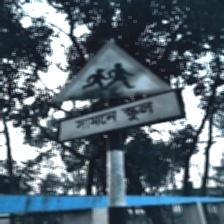School-in-front: (53, 39, 184, 144)
